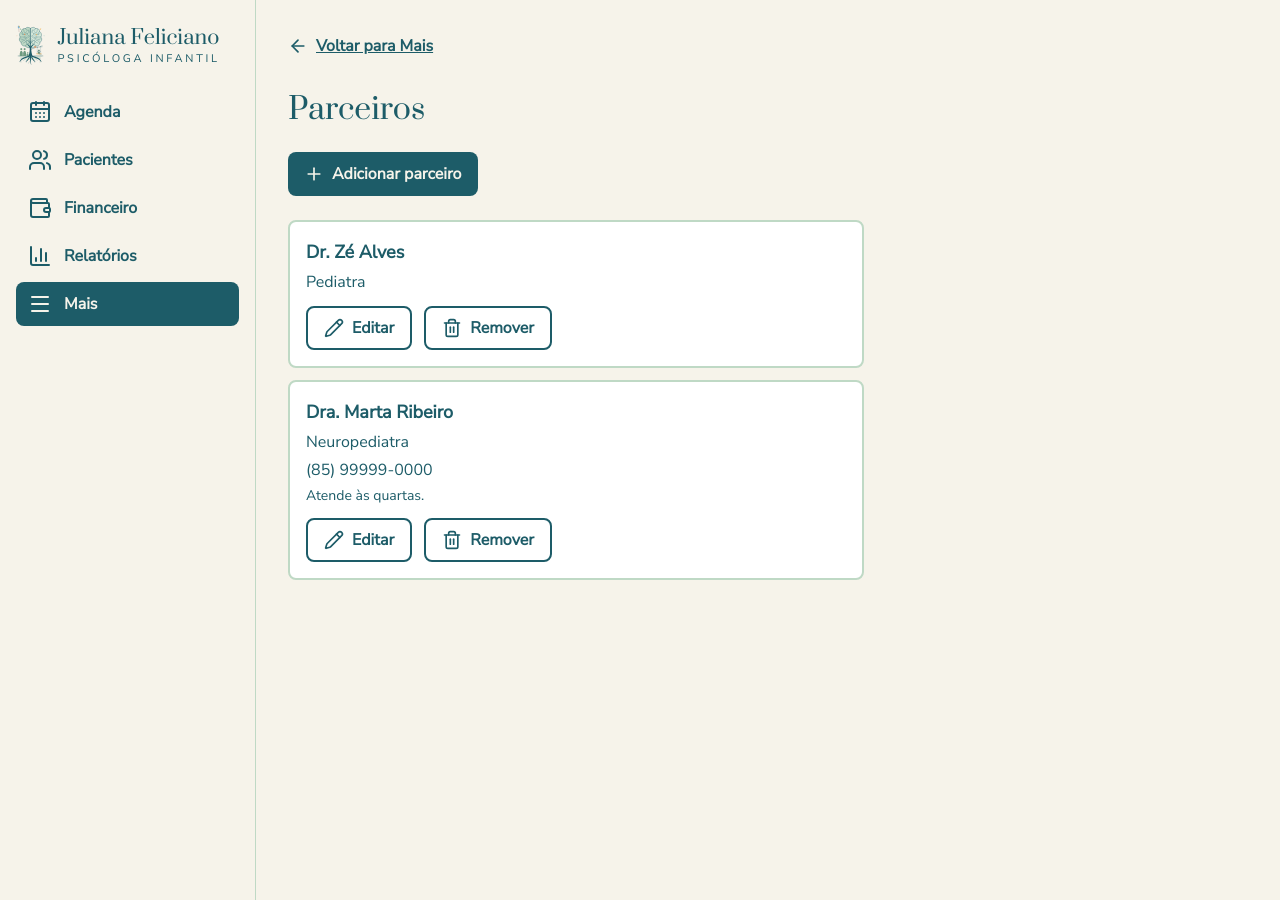
Scenario: TelaParceiros › remover › "Remover" no diálogo apaga o parceiro da lista e do repositório
Click the button with aria-label "Remover Dra. Marta Ribeiro".
click(488, 540)  # box x1=424 y1=518 x2=552 y2=562
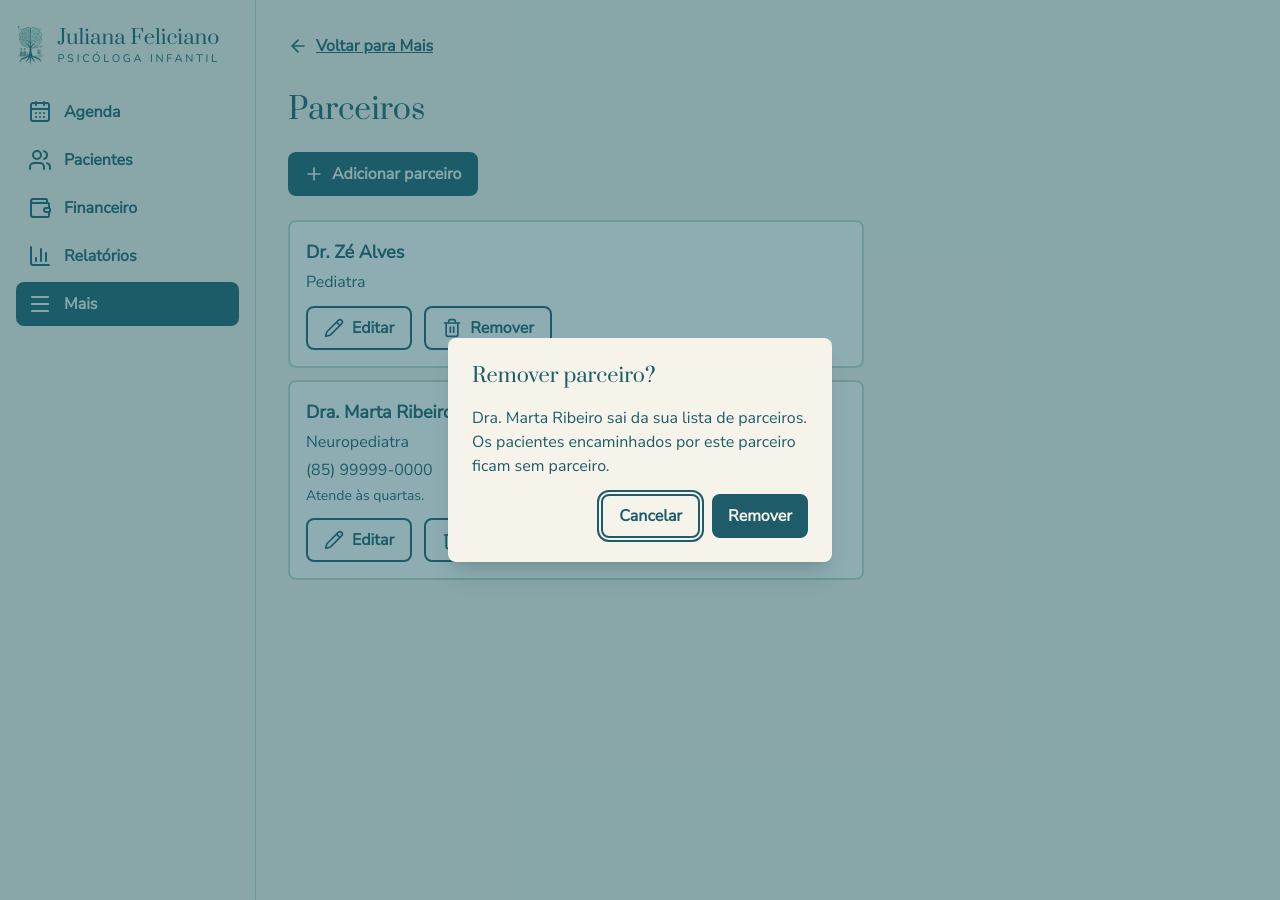
Click the button "Remover".
click(760, 516)  # box x1=712 y1=494 x2=808 y2=538
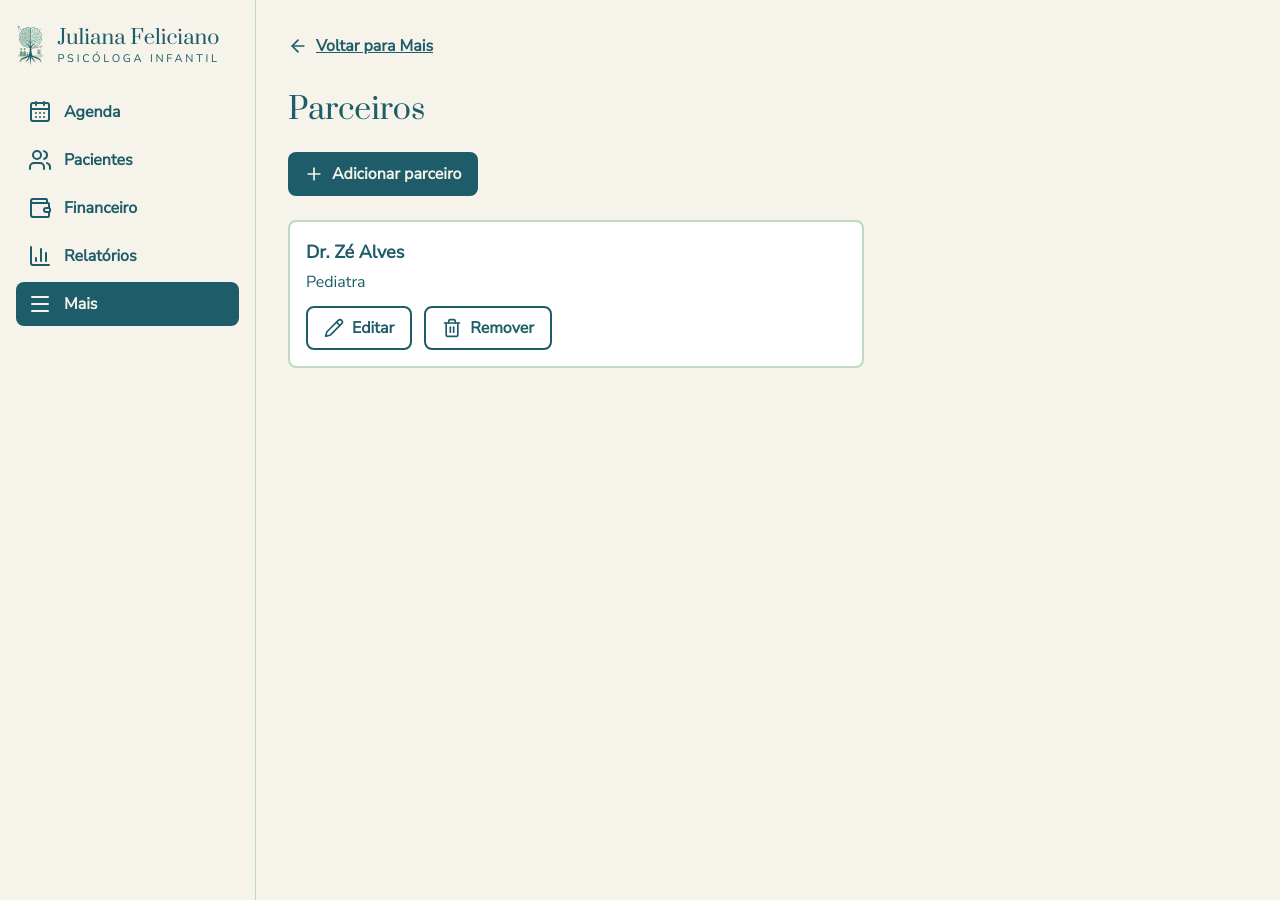
Check: the list item shows "Dr. Zé Alves", box x1=306 y1=240 x2=404 y2=264
Check: the dialog is gone
Check: the text "Dra. Marta Ribeiro" is gone
